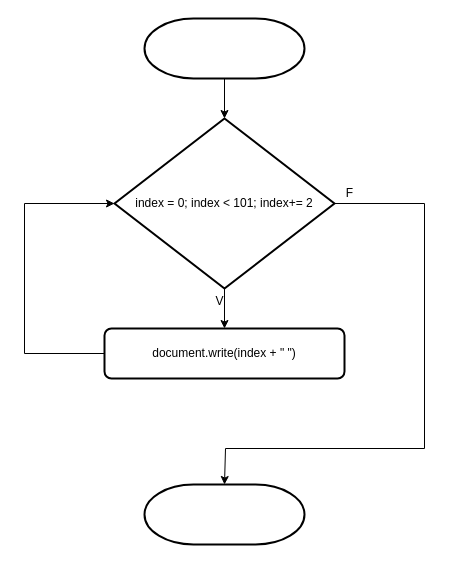
This 450x562 diagram has some shape labels left out. The centre of each missing label's shape, as x and y in pixels:
"Fim" goes at (x=224, y=514).
"inicio" goes at (x=224, y=48).
